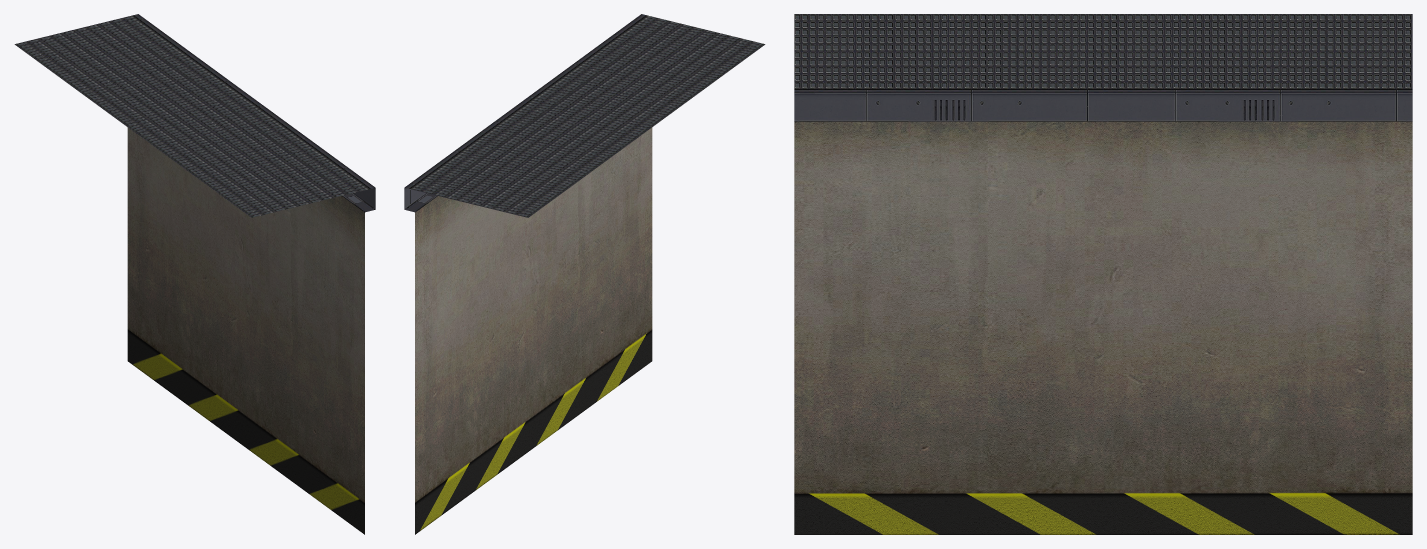
File: qiang01.fbx
3 views of the same model, side by side, from view 1: azimuth 30°, elevation 25°; view 2: azimuth 150°, elevation 25°; view 3: azimuth 270°, elevation 25° (orthographic). The views are drawn at different scales.
Parts seen in each view (by area): view 1: qiang01; view 2: qiang01; view 3: qiang01.
Boxes of the visible parts, x1,y1,x2,y2 form: qiang01: [14, 14, 375, 534]; qiang01: [404, 14, 765, 534]; qiang01: [794, 14, 1412, 534].
Bounding box in the file's own units: 242 × 641 × 800.
